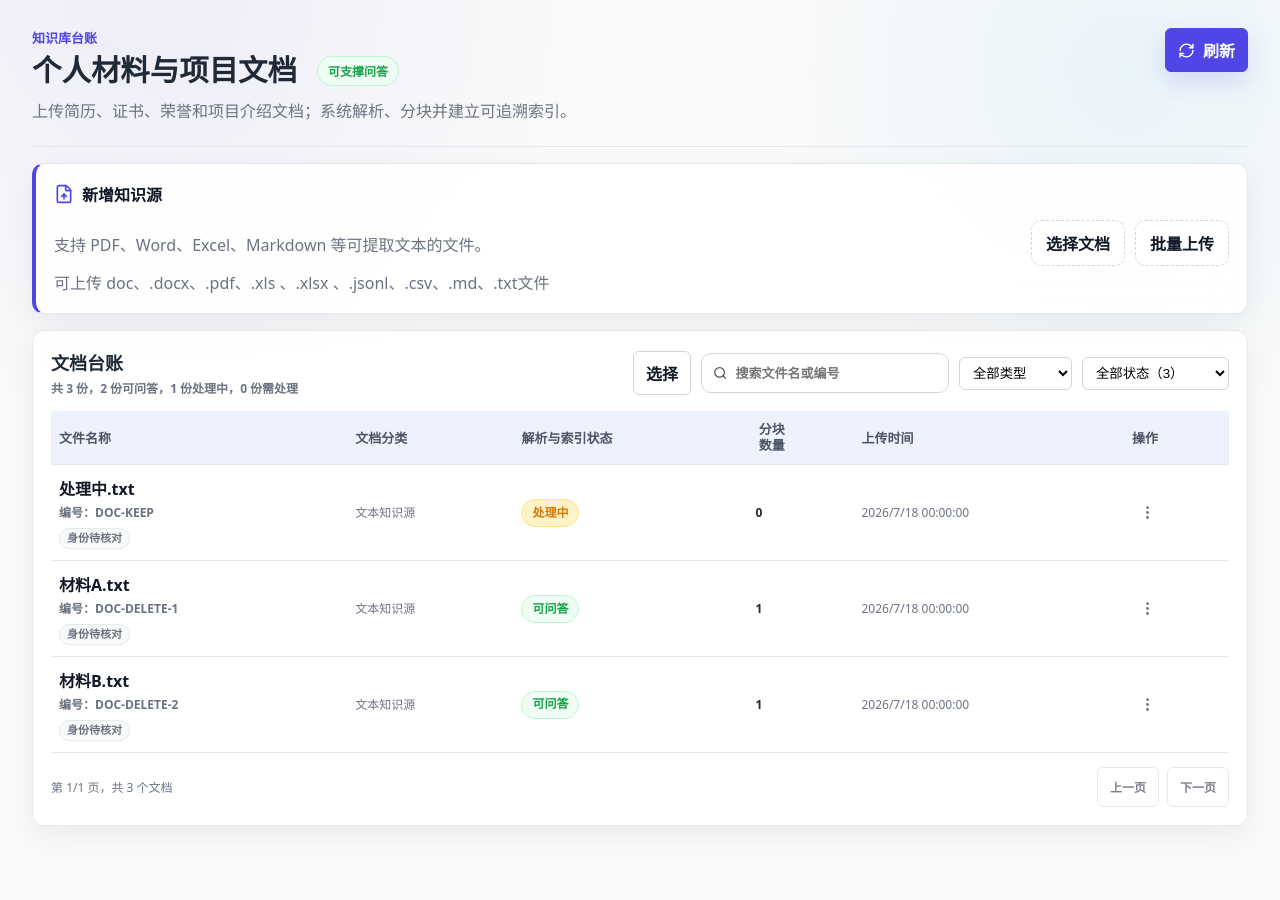
Test: DocumentsPage batch upload › submits selected documents through the bulk delete action
Expected: the button "材料A.txt" is shown, x1=59 y1=572 x2=130 y2=596
Click the button "选择" at {"x": 662, "y": 373}, box x1=633 y1=351 x2=691 y2=395
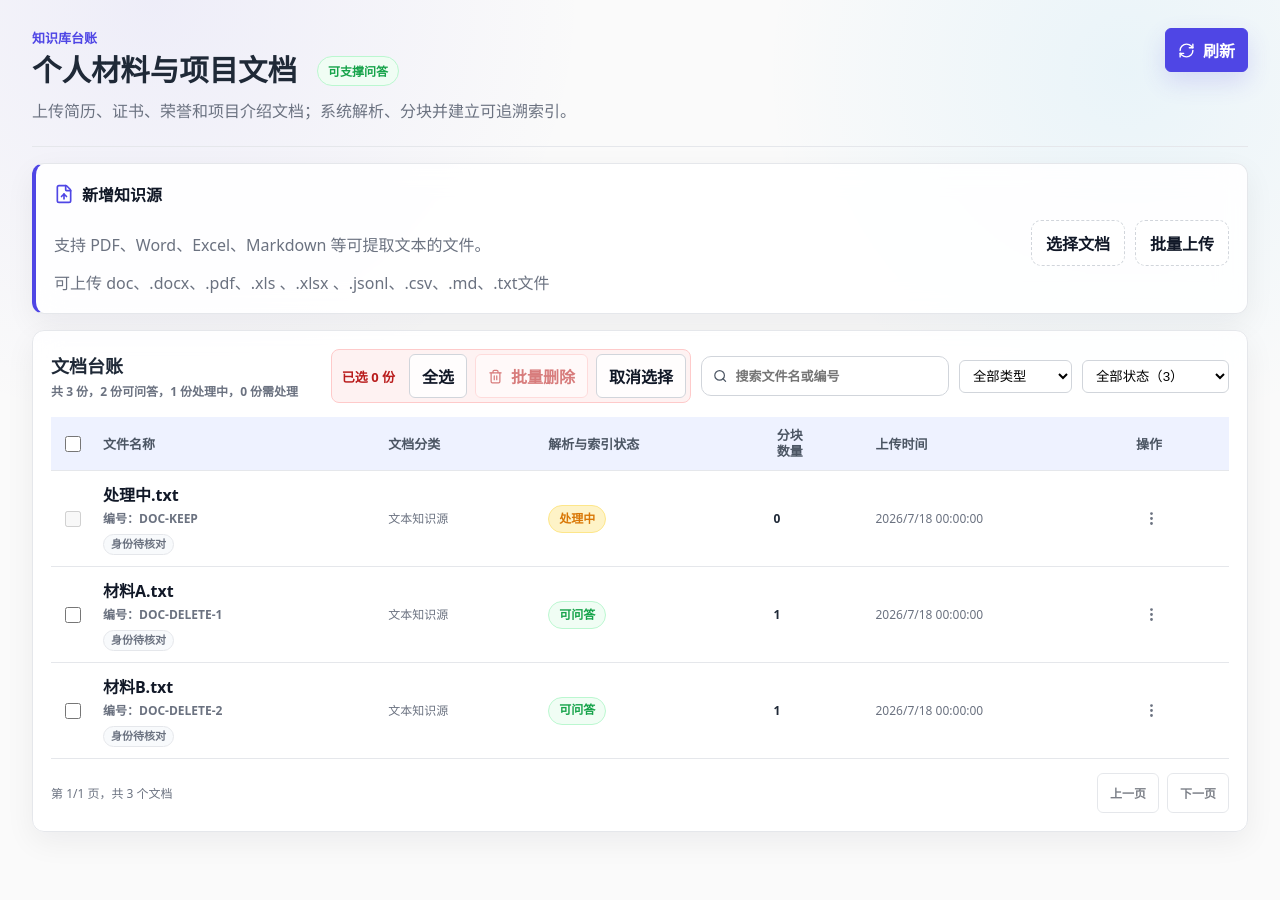
Click the button "全选" at {"x": 438, "y": 376}, box x1=409 y1=354 x2=467 y2=398
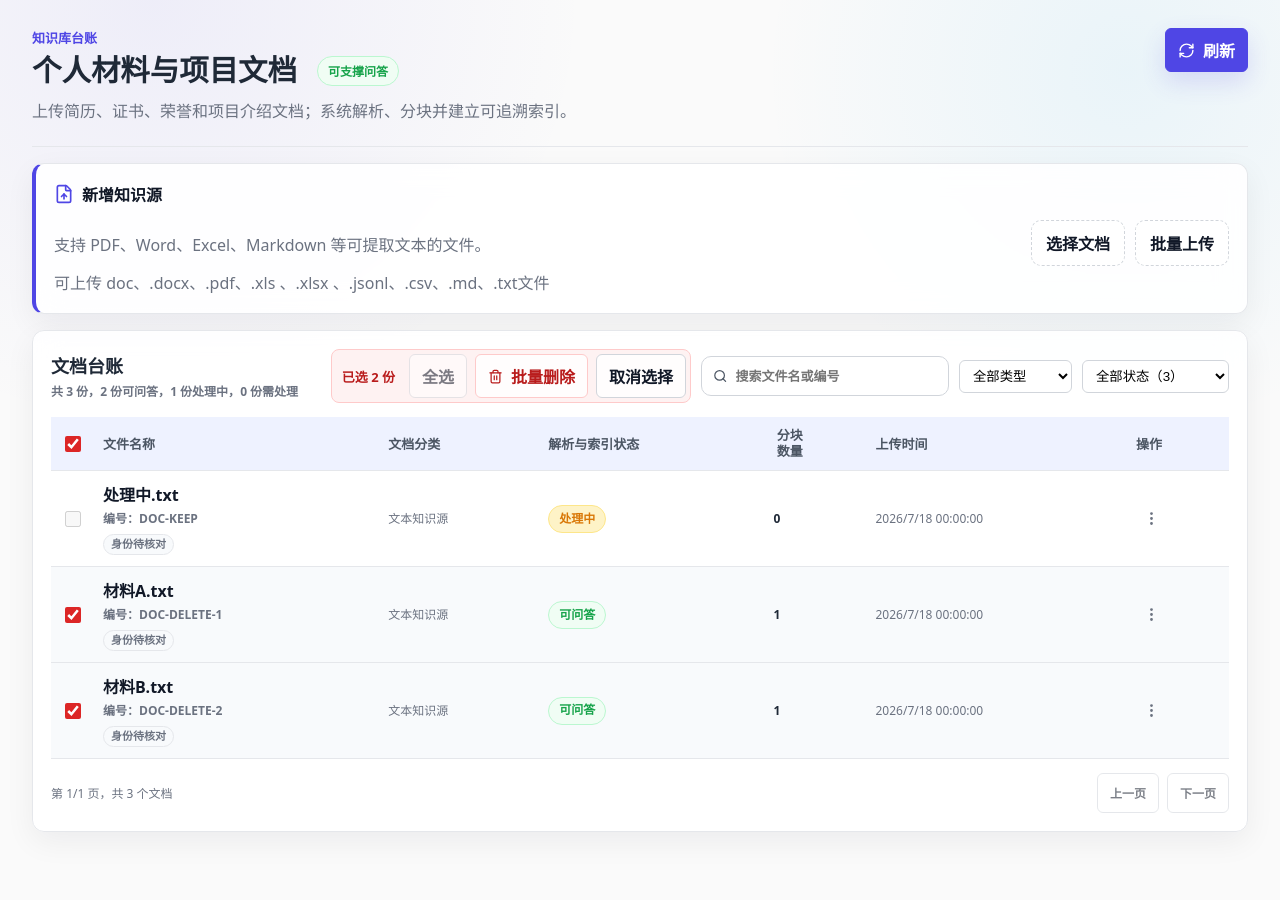
Click the button "批量删除" at {"x": 532, "y": 376}, box x1=475 y1=354 x2=588 y2=398
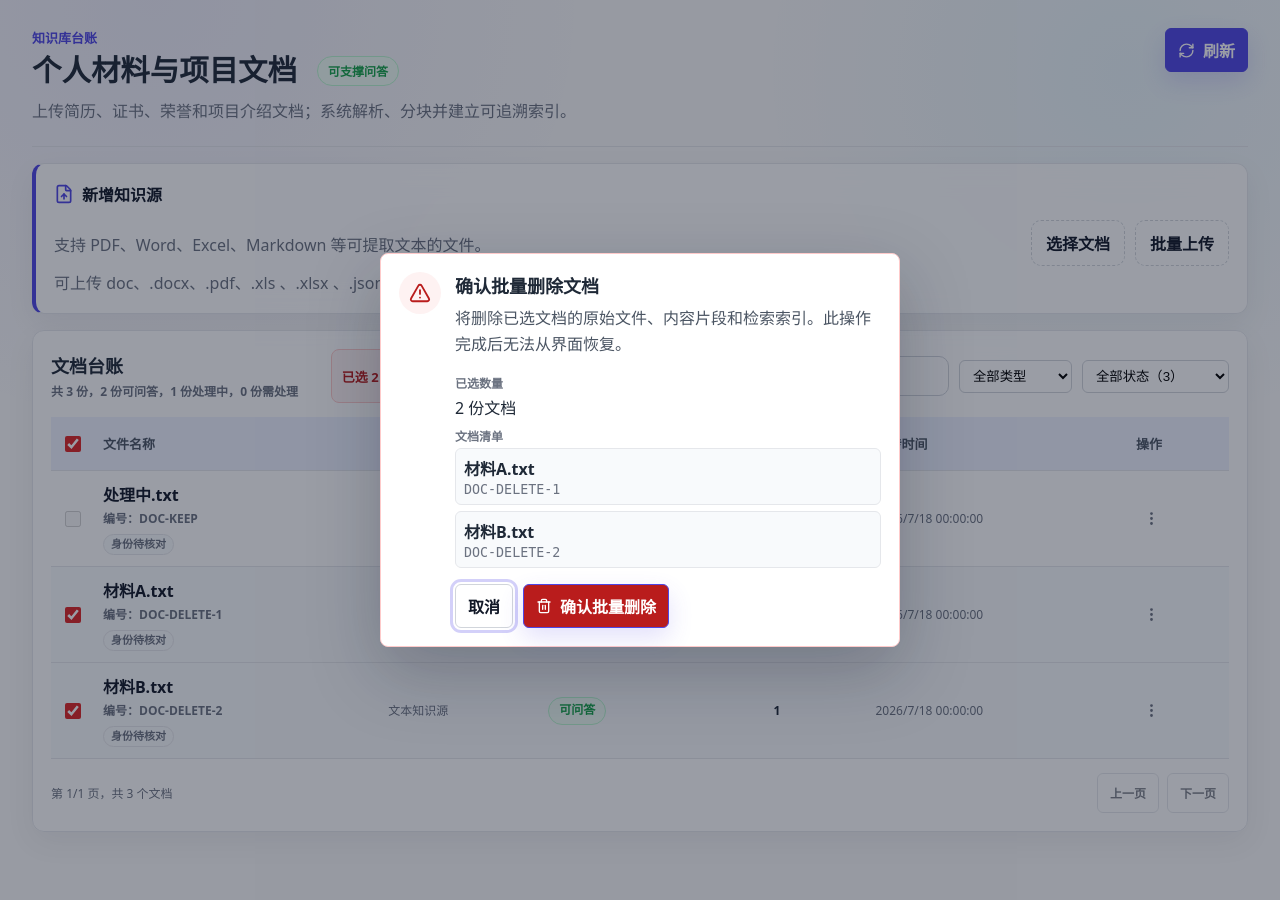
Expected: the heading "确认批量删除文档" is shown, x1=455 y1=274 x2=599 y2=298
Click the button "确认批量删除" at {"x": 596, "y": 606}, box x1=523 y1=584 x2=669 y2=628
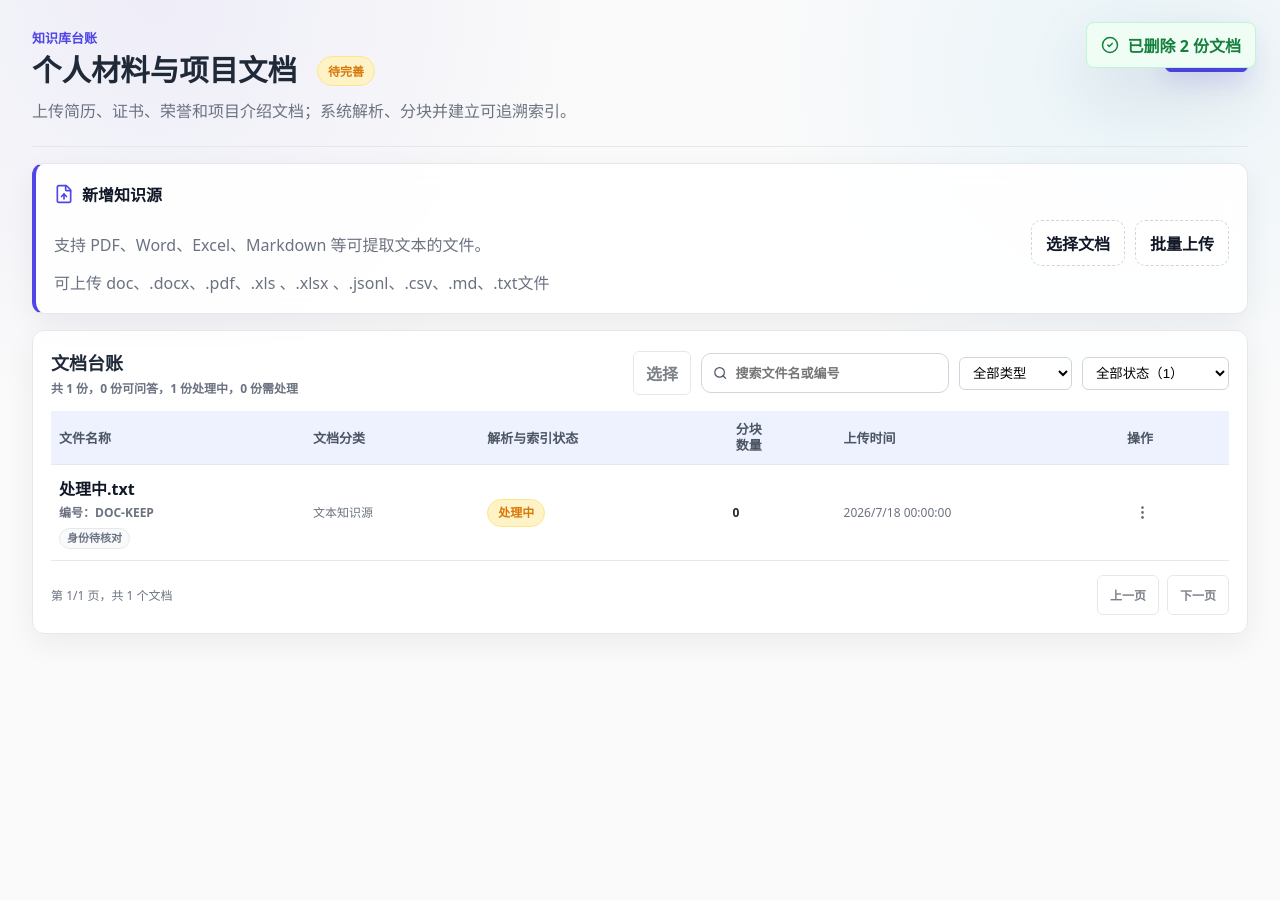
Expected: the text "已删除 2 份文档" is shown, x1=1128 y1=33 x2=1241 y2=57
